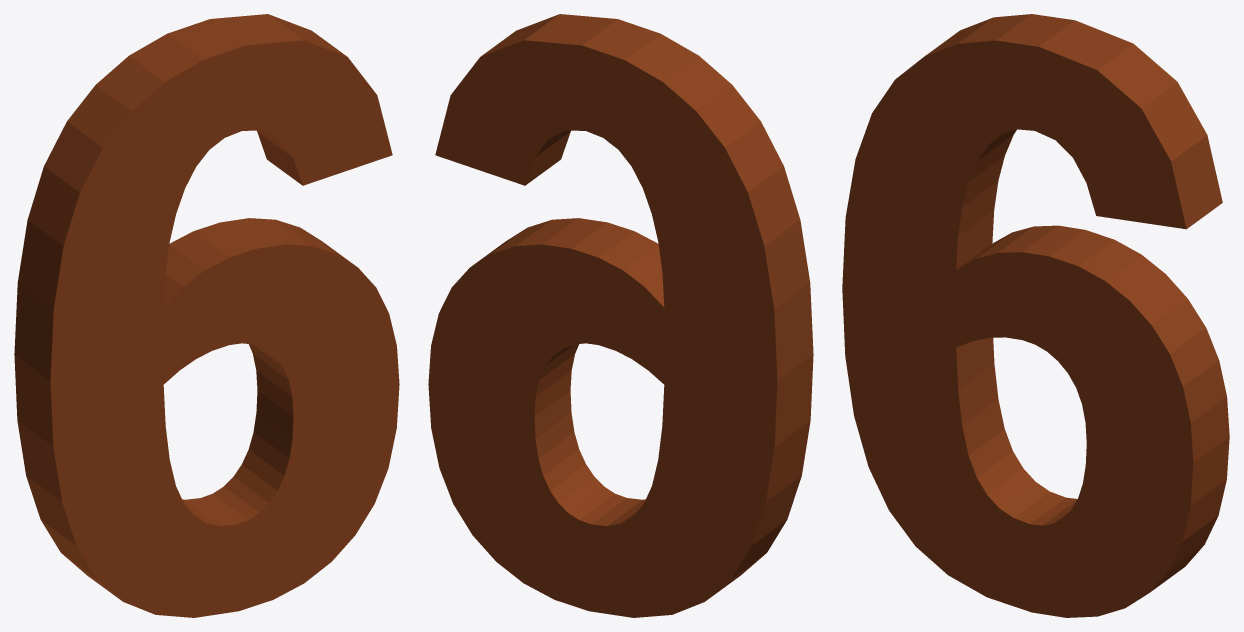
The model's file is num_6.glb.
3 renders of one model, left to right at view 1: azimuth 30°, elevation 25°; view 2: azimuth 150°, elevation 25°; view 3: azimuth 330°, elevation 25°, orthographic.
Visible parts, largest first — view 1: num_6; view 2: num_6; view 3: num_6.
Part boxes in pixels (x1,y1,x2,y2): num_6: (14,14,399,617); num_6: (428,14,813,617); num_6: (842,14,1229,617).
Bounding box in the file's own units: 1.12 × 1.73 × 0.2.
